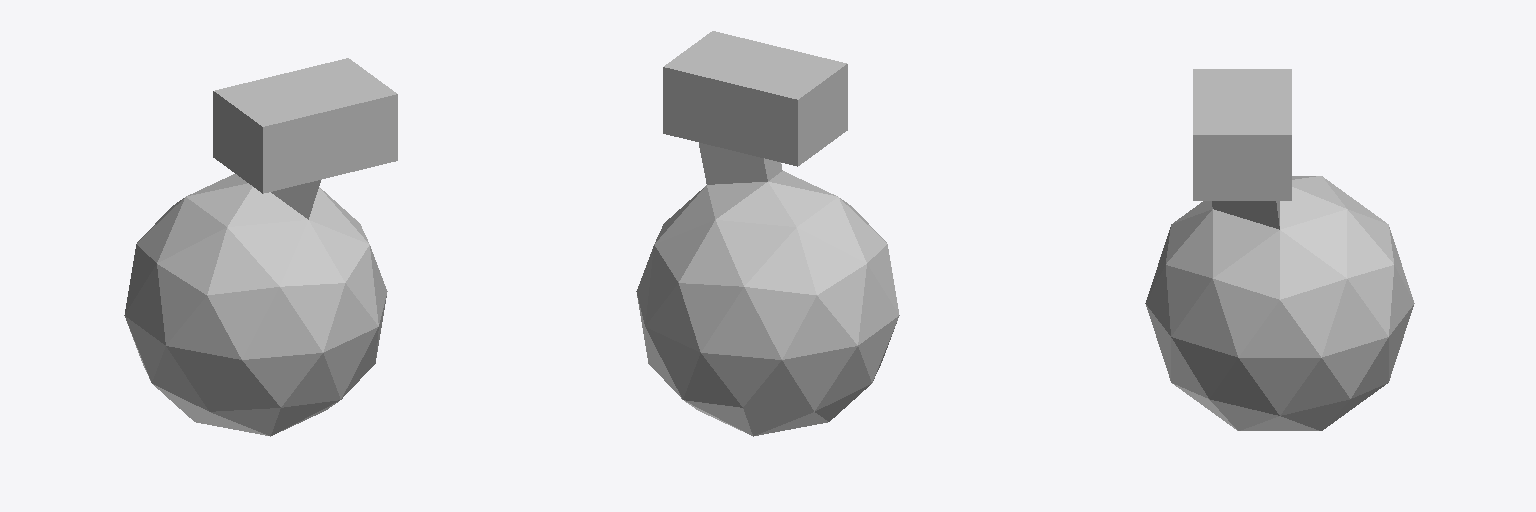
The model's file is normal_check.obj.
The picture shows the model from 3 angles: view 1: azimuth 30°, elevation 25°; view 2: azimuth 150°, elevation 25°; view 3: azimuth 270°, elevation 25°; orthographic projection.
Parts seen in each view (by area): view 1: Icosphere; view 2: Icosphere; view 3: Icosphere.
Part boxes in pixels (left/top/right/bottom): Icosphere: left=124, top=58, right=397, bottom=436; Icosphere: left=636, top=31, right=899, bottom=436; Icosphere: left=1145, top=69, right=1414, bottom=430.
Size of the model in its own units: 1.9 by 2.78 by 2.